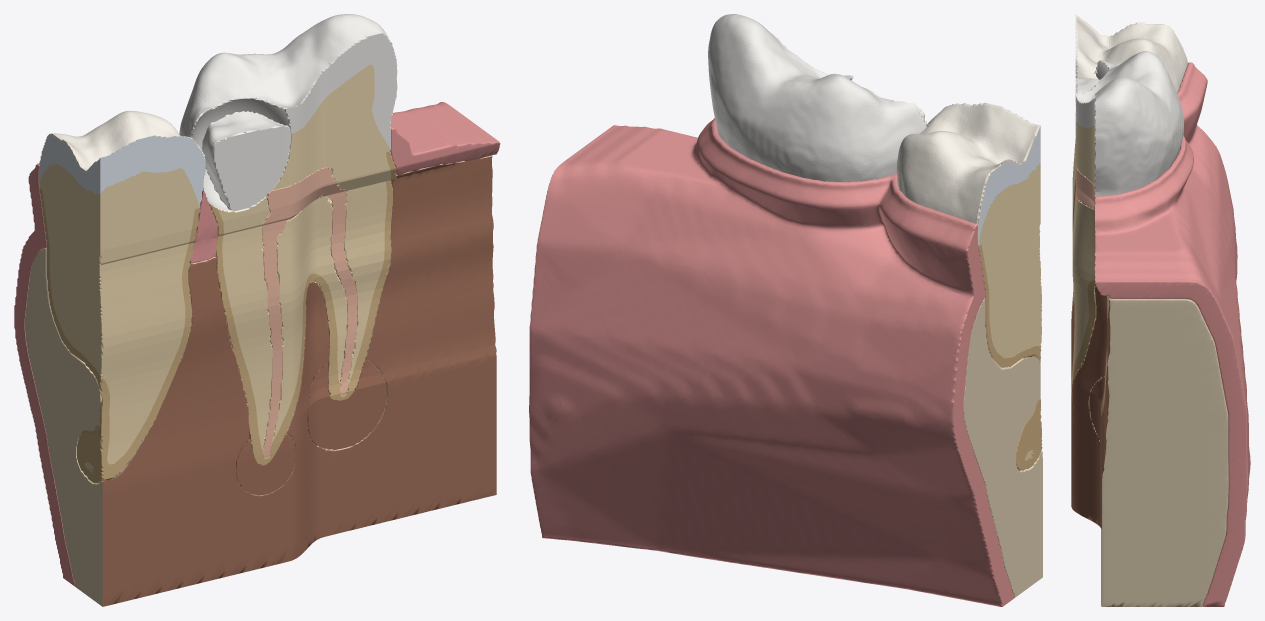
File: rct-later.glb
The picture shows the model from 3 angles, left to right: view 1: azimuth 30°, elevation 25°; view 2: azimuth 150°, elevation 25°; view 3: azimuth 270°, elevation 25°; orthographic projection. The views are drawn at different scales.
Visible parts, largest first — view 1: bone_1, teeth teeth_2, first molar teeth_8, bone, first molar teeth_5, crown, gum, root filling, new bone, first molar teeth_7, teeth teeth_3, first molar teeth_10 (+4 smaller); view 2: gum, first molar teeth_5, bone, teeth teeth_4, teeth teeth_2, teeth teeth_3, teeth teeth_1, teeth teeth; view 3: bone, gum, first molar teeth_5, bone_1, teeth teeth_4, first molar teeth_8, first molar teeth_7, new bone, root filling, first molar teeth_10, crown.
Boxes of the visible parts, x1,y1,x2,y2 form: bone_1: (102, 156, 496, 606); teeth teeth_2: (40, 162, 200, 474); first molar teeth_8: (218, 64, 390, 453); bone: (24, 155, 493, 606); first molar teeth_5: (179, 14, 397, 204); crown: (191, 98, 290, 211); gum: (14, 102, 499, 586); root filling: (262, 167, 357, 458); new bone: (236, 359, 386, 495); first molar teeth_7: (210, 151, 396, 465); teeth teeth_3: (39, 135, 205, 206); first molar teeth_10: (284, 33, 397, 149); gum: (529, 118, 1014, 606); first molar teeth_5: (708, 14, 929, 181); bone: (963, 298, 1042, 597); teeth teeth_4: (896, 103, 1040, 245); teeth teeth_2: (979, 163, 1042, 460); teeth teeth_3: (950, 102, 1040, 238); teeth teeth_1: (980, 244, 1042, 467); teeth teeth: (978, 245, 1042, 470); bone: (1088, 298, 1228, 606); gum: (1094, 62, 1250, 606); first molar teeth_5: (1076, 51, 1183, 196); bone_1: (1071, 179, 1110, 606); teeth teeth_4: (1075, 14, 1187, 92); first molar teeth_8: (1071, 121, 1108, 404); first molar teeth_7: (1071, 188, 1109, 415); new bone: (1071, 370, 1105, 445); root filling: (1071, 166, 1107, 411); first molar teeth_10: (1075, 93, 1095, 196); crown: (1075, 60, 1108, 142).
Bounding box in the file's own units: 23.45 × 27.65 × 9.67.
